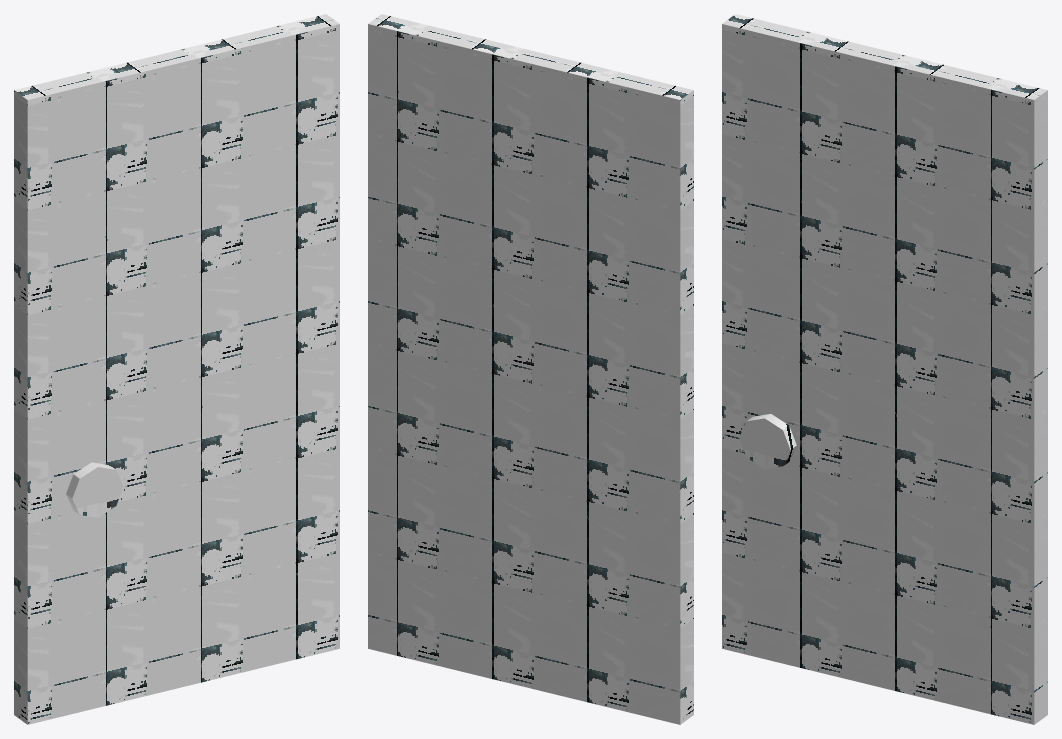
File: CupBoardDoorLeft.FBX
3 views of the same model, side by side, from view 1: azimuth 30°, elevation 25°; view 2: azimuth 150°, elevation 25°; view 3: azimuth 330°, elevation 25° (orthographic).
Visible parts, largest first — view 1: CupBoardDoorLeft; view 2: CupBoardDoorLeft; view 3: CupBoardDoorLeft.
Boxes of the visible parts, left/top/right/bottom form: CupBoardDoorLeft: left=14, top=14, right=339, bottom=724; CupBoardDoorLeft: left=368, top=14, right=693, bottom=724; CupBoardDoorLeft: left=722, top=14, right=1047, bottom=724.
Bounding box in the file's own units: 0.5594 × 0.0851 × 1.07.
1 material, 1 textured.
